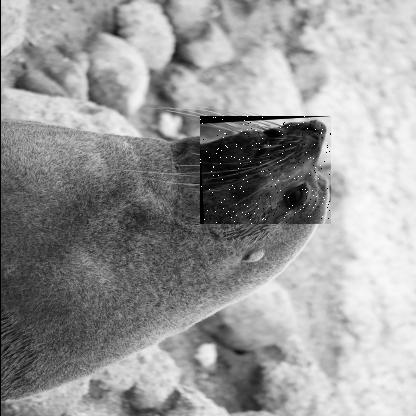face: (198, 116, 330, 225)
